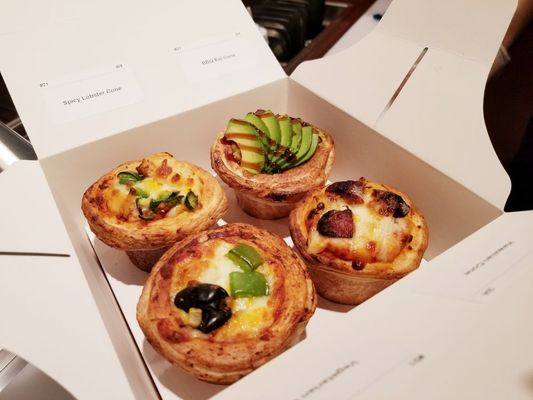curry: (7, 1, 529, 400)
salad: (136, 222, 317, 384), (289, 178, 429, 302), (81, 151, 229, 254), (211, 109, 335, 221)
